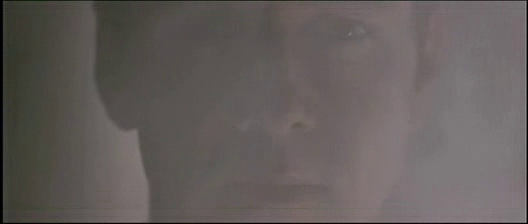ecu: (1, 1, 528, 224)
face: (153, 1, 415, 222)
person: (90, 1, 444, 224)
